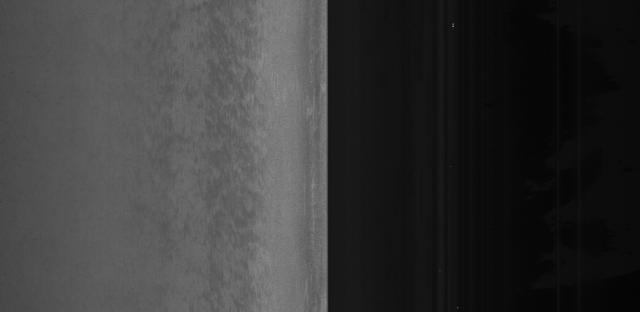silk_spot: (204, 20, 270, 273)
